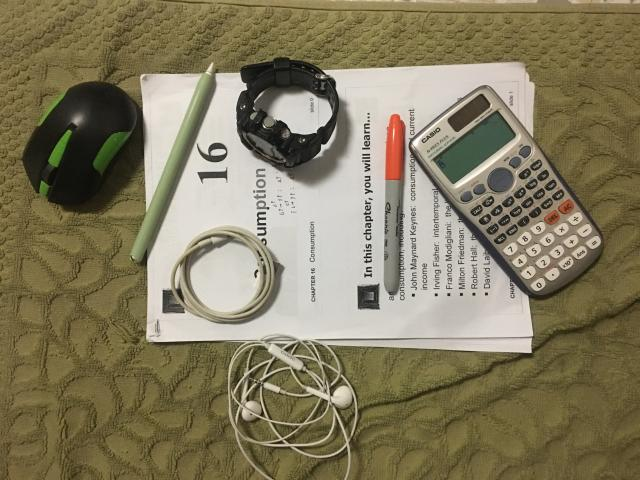Mouse: (22, 81, 136, 205)
Pen: (384, 114, 405, 295)
Watch: (236, 58, 339, 168)
paper: (141, 63, 534, 352)
wire: (228, 335, 359, 479), (171, 225, 275, 324)
